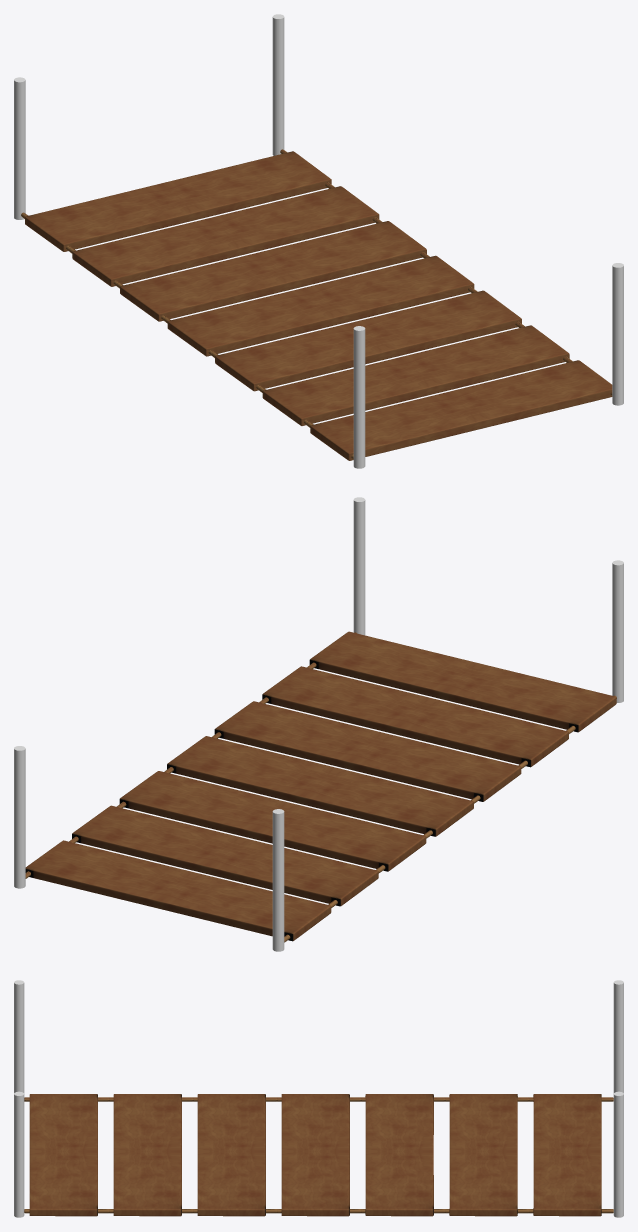
File: bridge7Planks.fbx
3 renders of one model, top to bottom at view 1: azimuth 30°, elevation 25°; view 2: azimuth 150°, elevation 25°; view 3: azimuth 270°, elevation 25°, orthographic. The views are drawn at different scales.
Visible parts, largest first — view 1: Planks, Rails; view 2: Planks, Rails; view 3: Planks, Rails.
Boxes of the visible parts, box(x1,y1,x2,y2) form: Planks: box(21, 149, 612, 460); Rails: box(14, 14, 623, 468); Planks: box(25, 631, 616, 942); Rails: box(14, 497, 623, 951); Planks: box(24, 1094, 613, 1216); Rails: box(14, 980, 623, 1217).
Bounding box in the file's own units: 300 × 147 × 667.
1 material, 1 textured.
